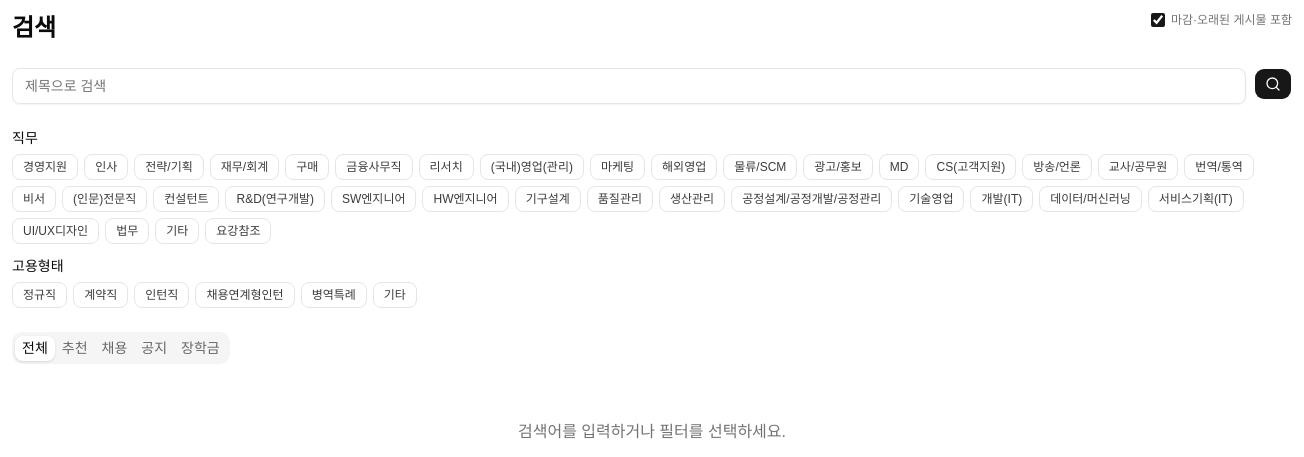
SearchPage › shows loading state after search is submitted
The image size is (1304, 457).
In the field with placeholder "제목으로 검색": {"x": 629, "y": 86} [12,68,1246,104], type "react"
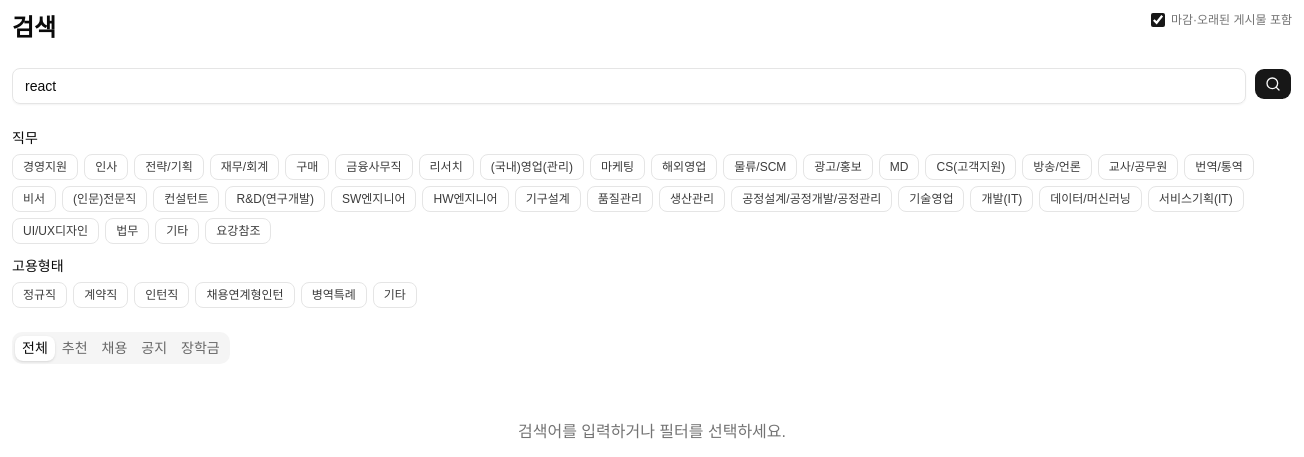
Press Enter in the field with placeholder "제목으로 검색", box [12,68,1246,104]
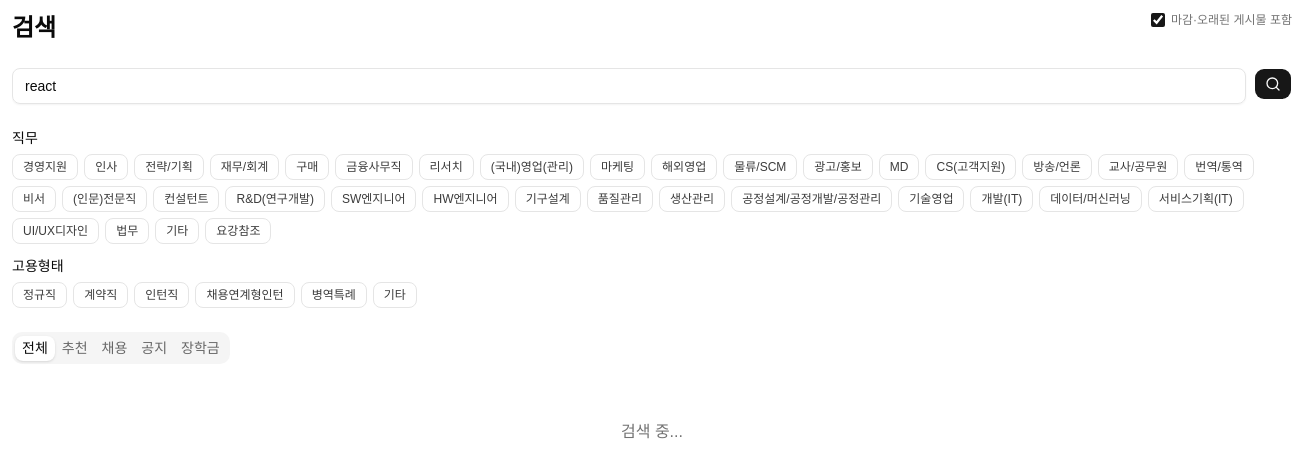
Expected: the text "검색 중..." is shown, [621,423,683,440]
